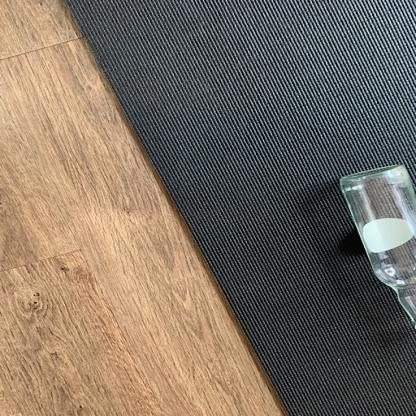trash: (338, 161, 414, 331)
